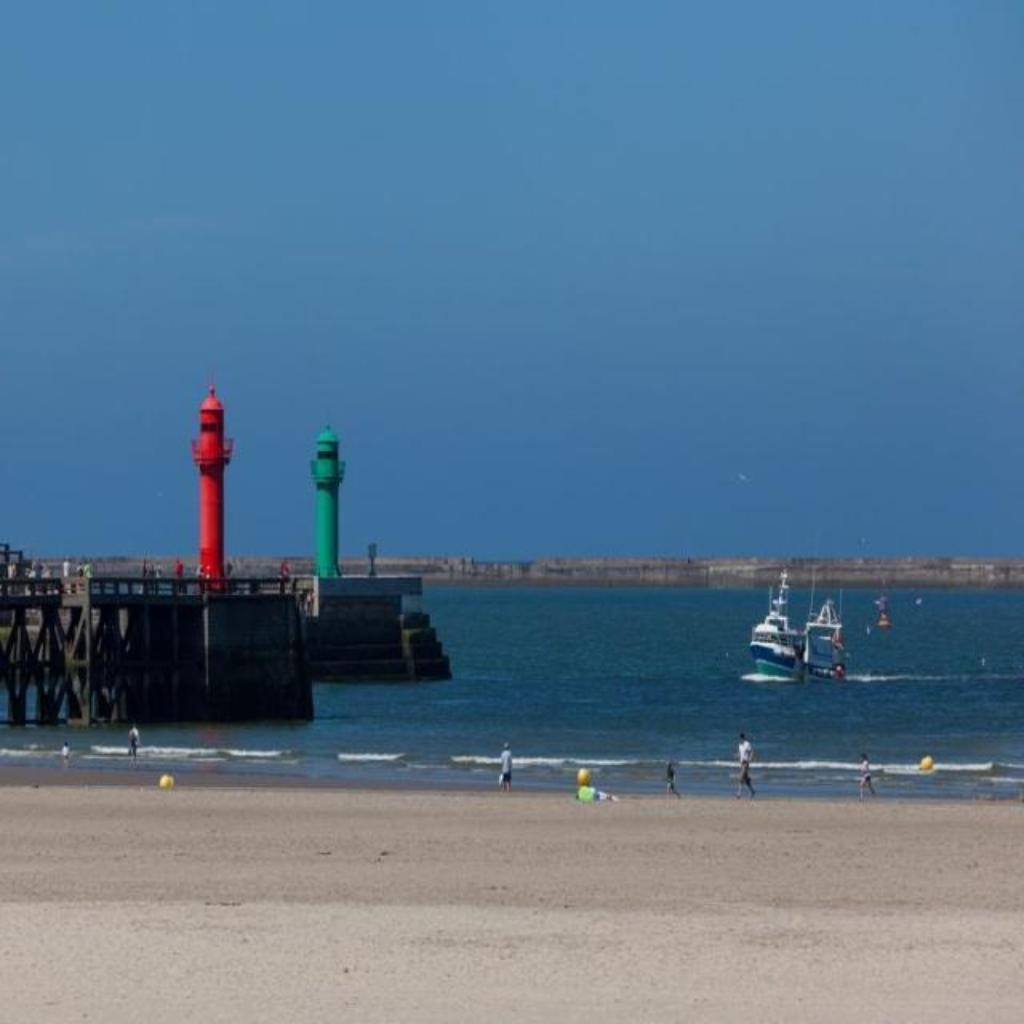PassengerShip: (744, 596, 850, 686)
